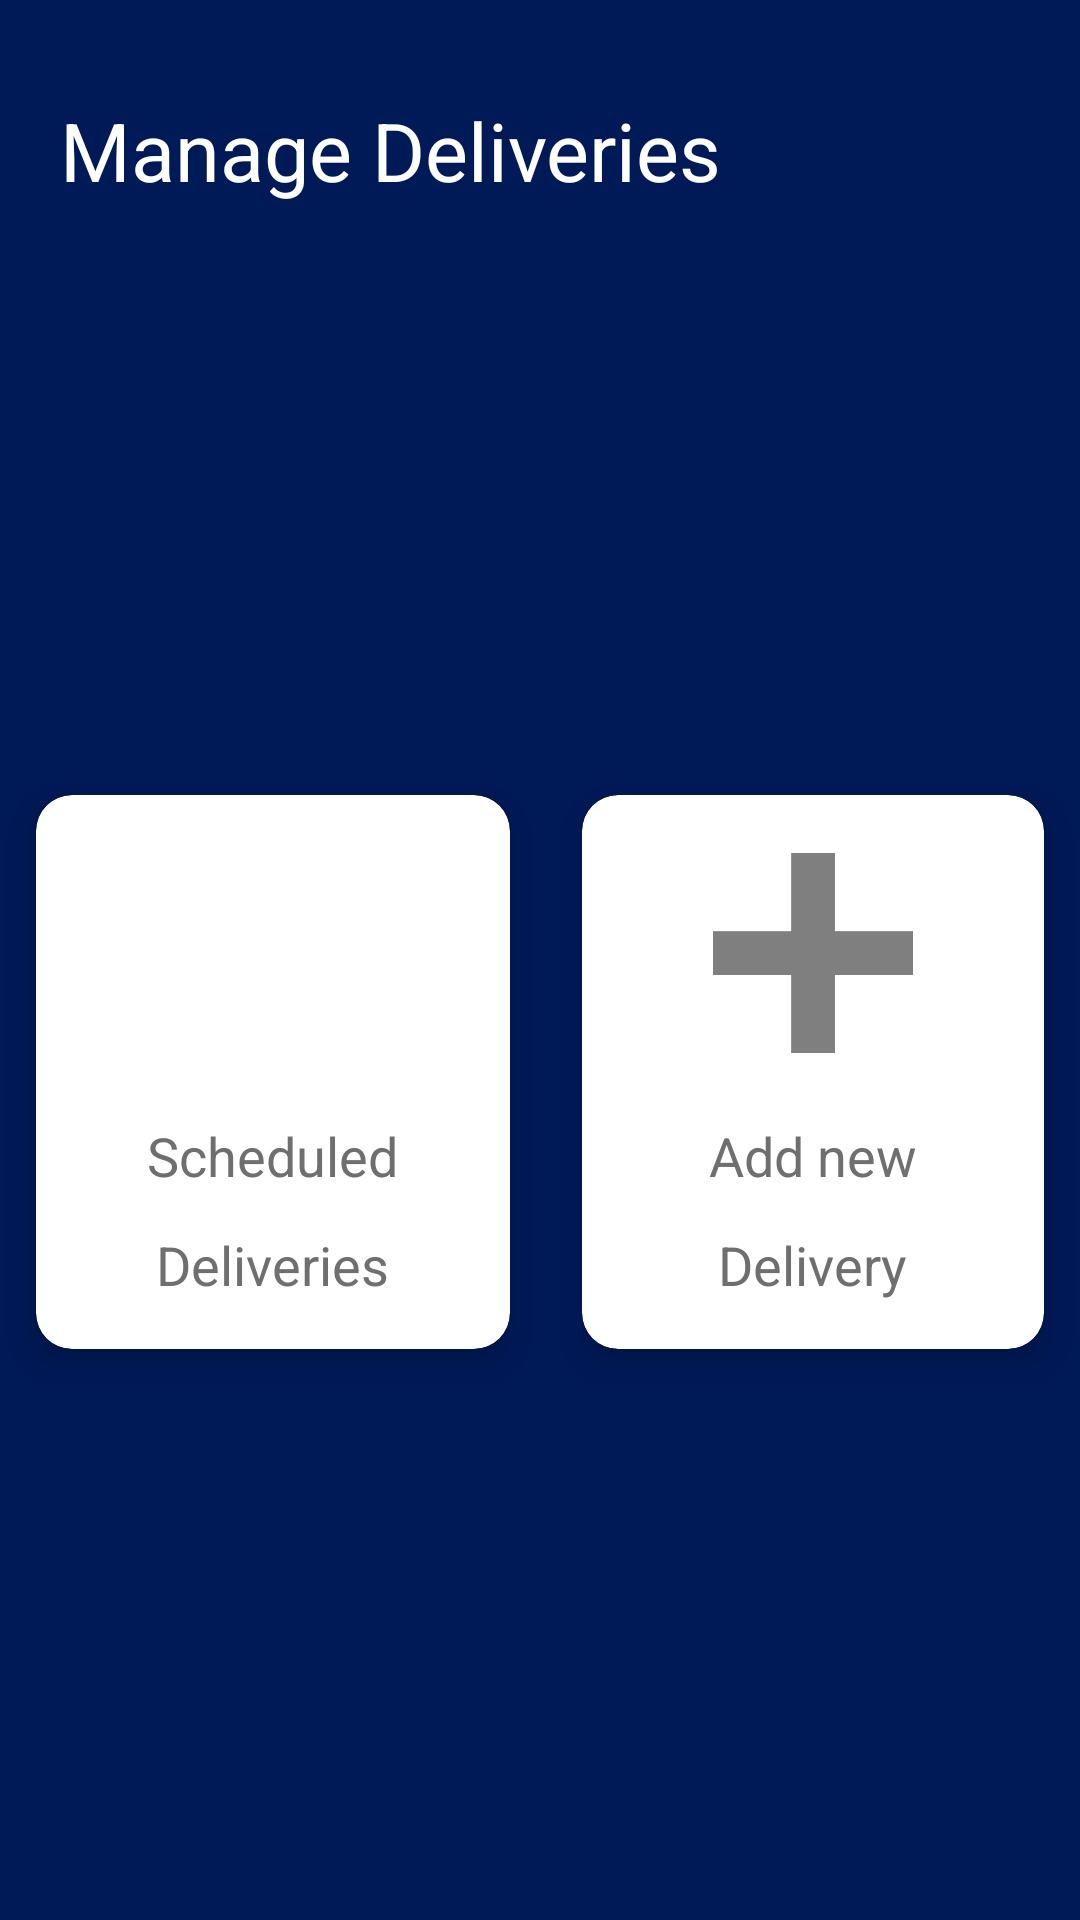

Named icons in this screenshot (1080w x 1920h) and their centers, (x,y):
plusnewuser: (813,953)
